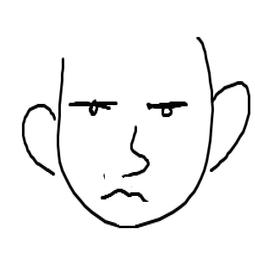ear: (14, 96, 65, 182)
large_ear: (205, 79, 253, 174)
line_unsmiling_mouth: (94, 185, 152, 205)
nose: (116, 123, 152, 180)
small_eye: (66, 98, 121, 119), (145, 100, 189, 119)
